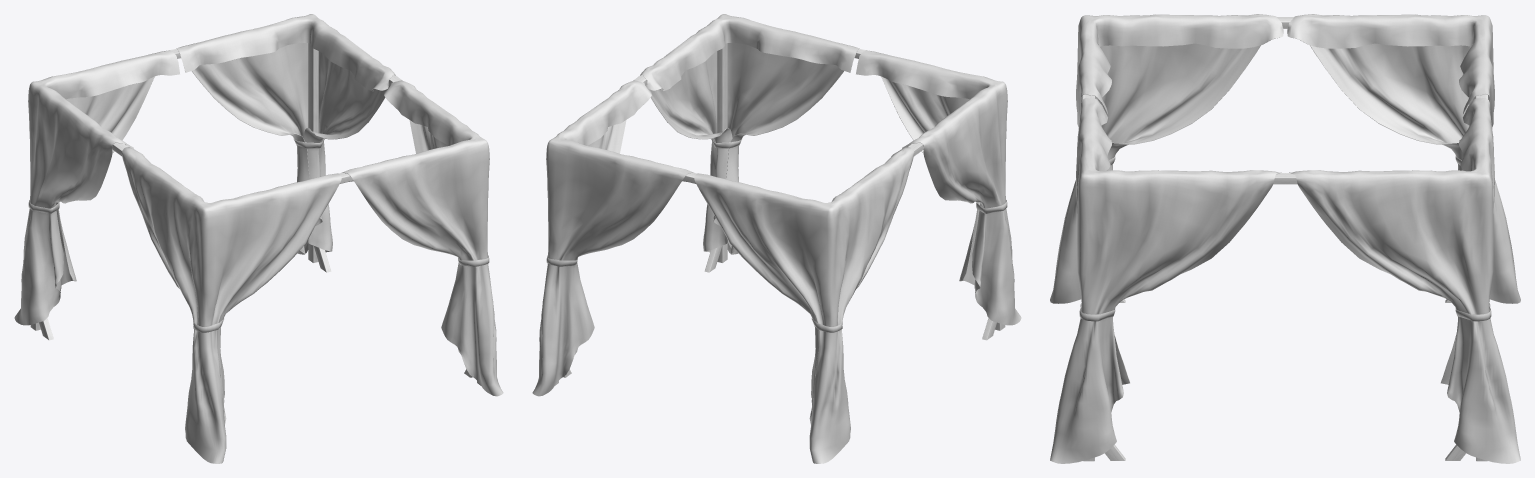
Rendered from EventArch01Cloth03.FBX.
3 renders of one model, left to right at view 1: azimuth 30°, elevation 25°; view 2: azimuth 150°, elevation 25°; view 3: azimuth 270°, elevation 25°, orthographic. The views are drawn at different scales.
Parts seen in each view (by area): view 1: EventArch01Cloth03; view 2: EventArch01Cloth03; view 3: EventArch01Cloth03.
Boxes of the visible parts, <box> form: EventArch01Cloth03: <box>14,14,503,463</box>; EventArch01Cloth03: <box>532,14,1021,463</box>; EventArch01Cloth03: <box>1050,14,1520,463</box>.
Size of what is drawn, in the model's own units: 3.74 by 2.91 by 4.32.
